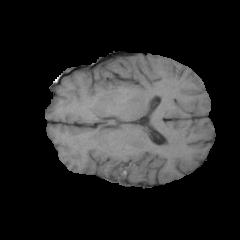glioma: (103, 155, 133, 184)
